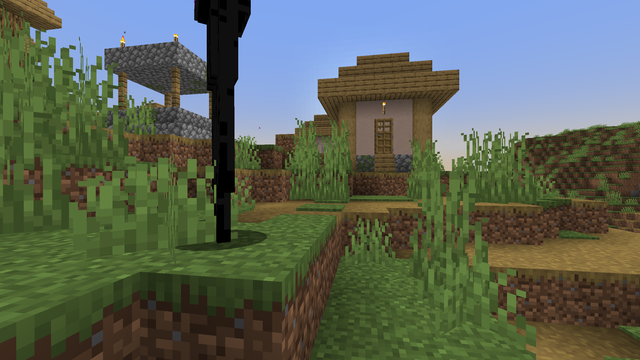endermens: (175, 11, 258, 246)
